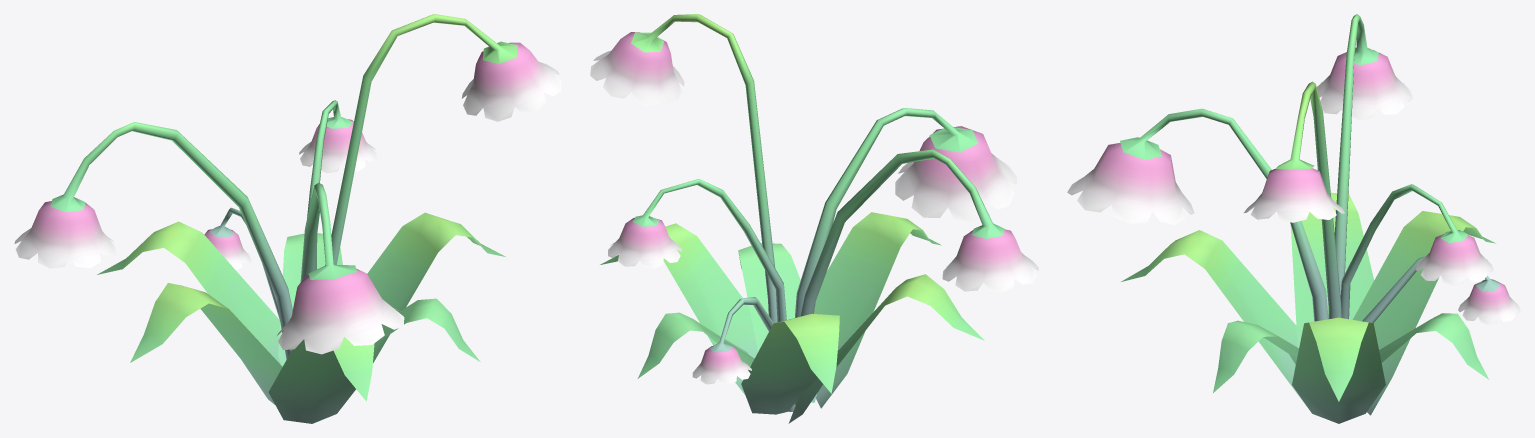
The model's file is Flower.002_Base_Material_0.fbx.
The picture shows the model from 3 angles, left to right: view 1: azimuth 30°, elevation 25°; view 2: azimuth 150°, elevation 25°; view 3: azimuth 270°, elevation 25°; orthographic projection. The views are drawn at different scales.
Visible parts, largest first — view 1: Flower.002_Base_Material_0_export; view 2: Flower.002_Base_Material_0_export; view 3: Flower.002_Base_Material_0_export.
Boxes of the visible parts, x1,y1,x2,y2 form: Flower.002_Base_Material_0_export: [14, 14, 561, 423]; Flower.002_Base_Material_0_export: [590, 14, 1038, 423]; Flower.002_Base_Material_0_export: [1067, 14, 1520, 423].
Bounding box in the file's own units: 3.25 × 2.35 × 2.63.
